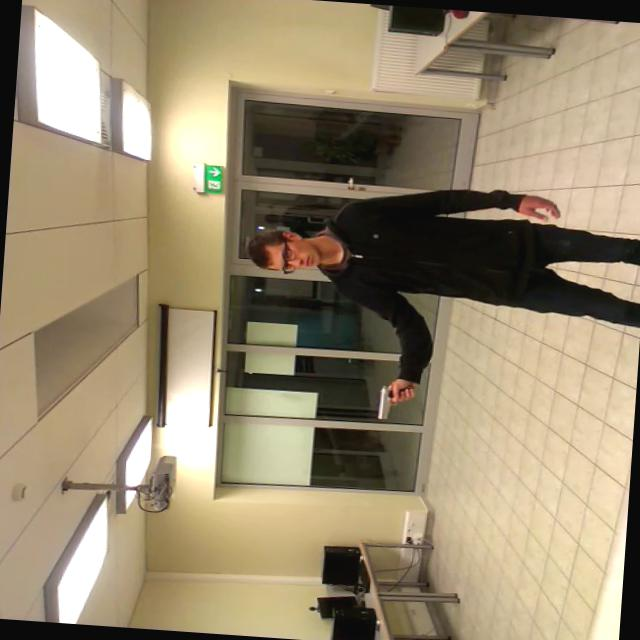handgun: (366, 371, 431, 430)
